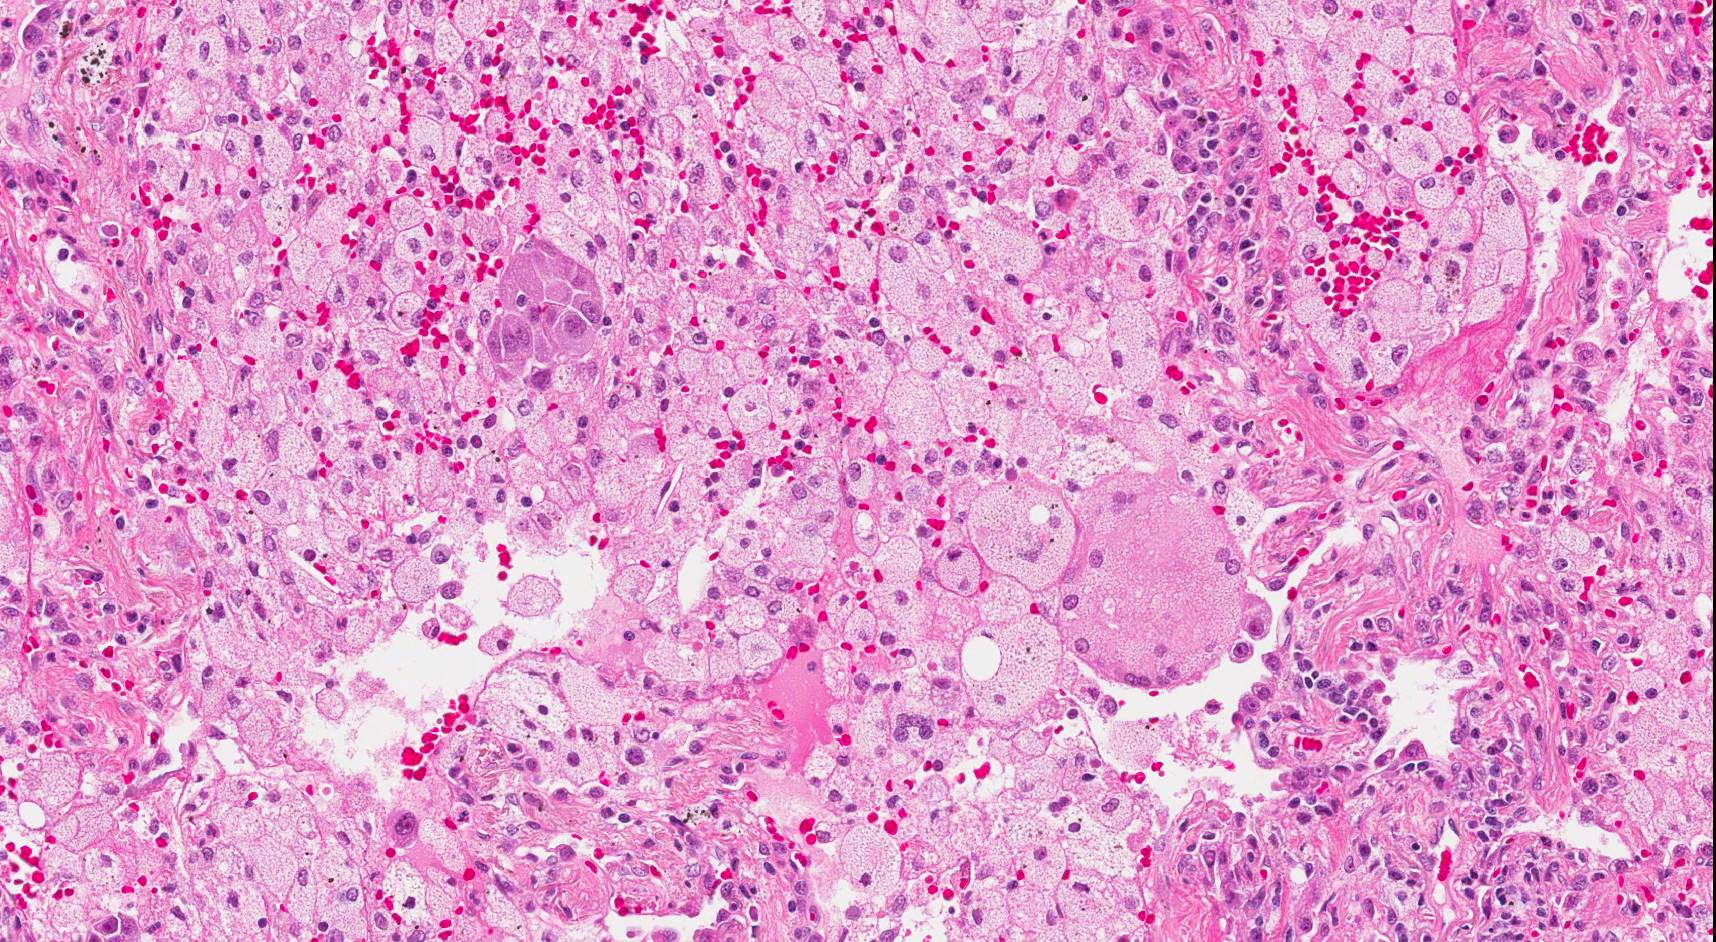stas: (486, 241, 610, 384)
